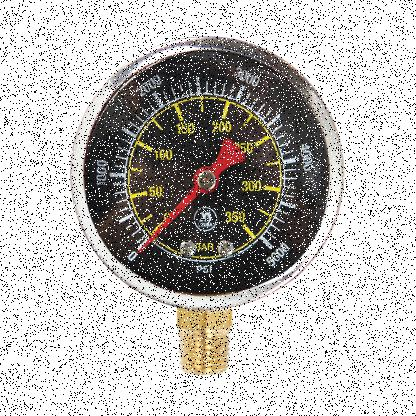needle: (135, 185, 202, 256)
